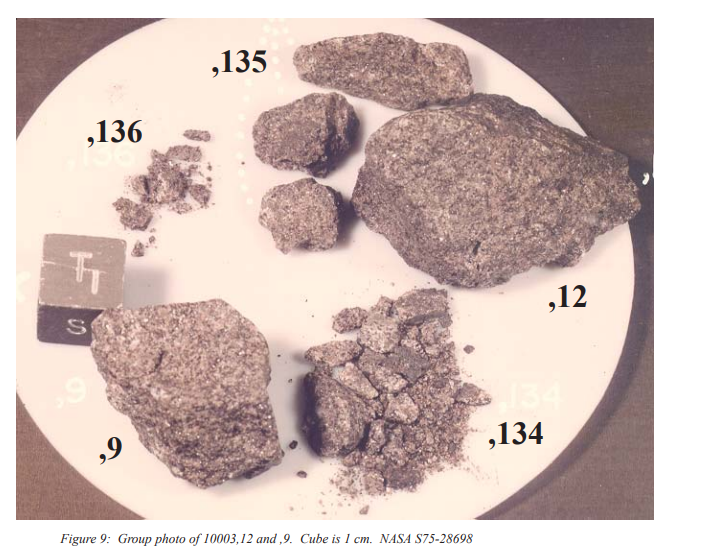Basalt: (364, 106, 644, 283), (283, 277, 493, 502), (73, 291, 296, 495), (284, 25, 472, 104), (233, 95, 347, 191), (243, 95, 347, 177), (238, 198, 349, 271)
